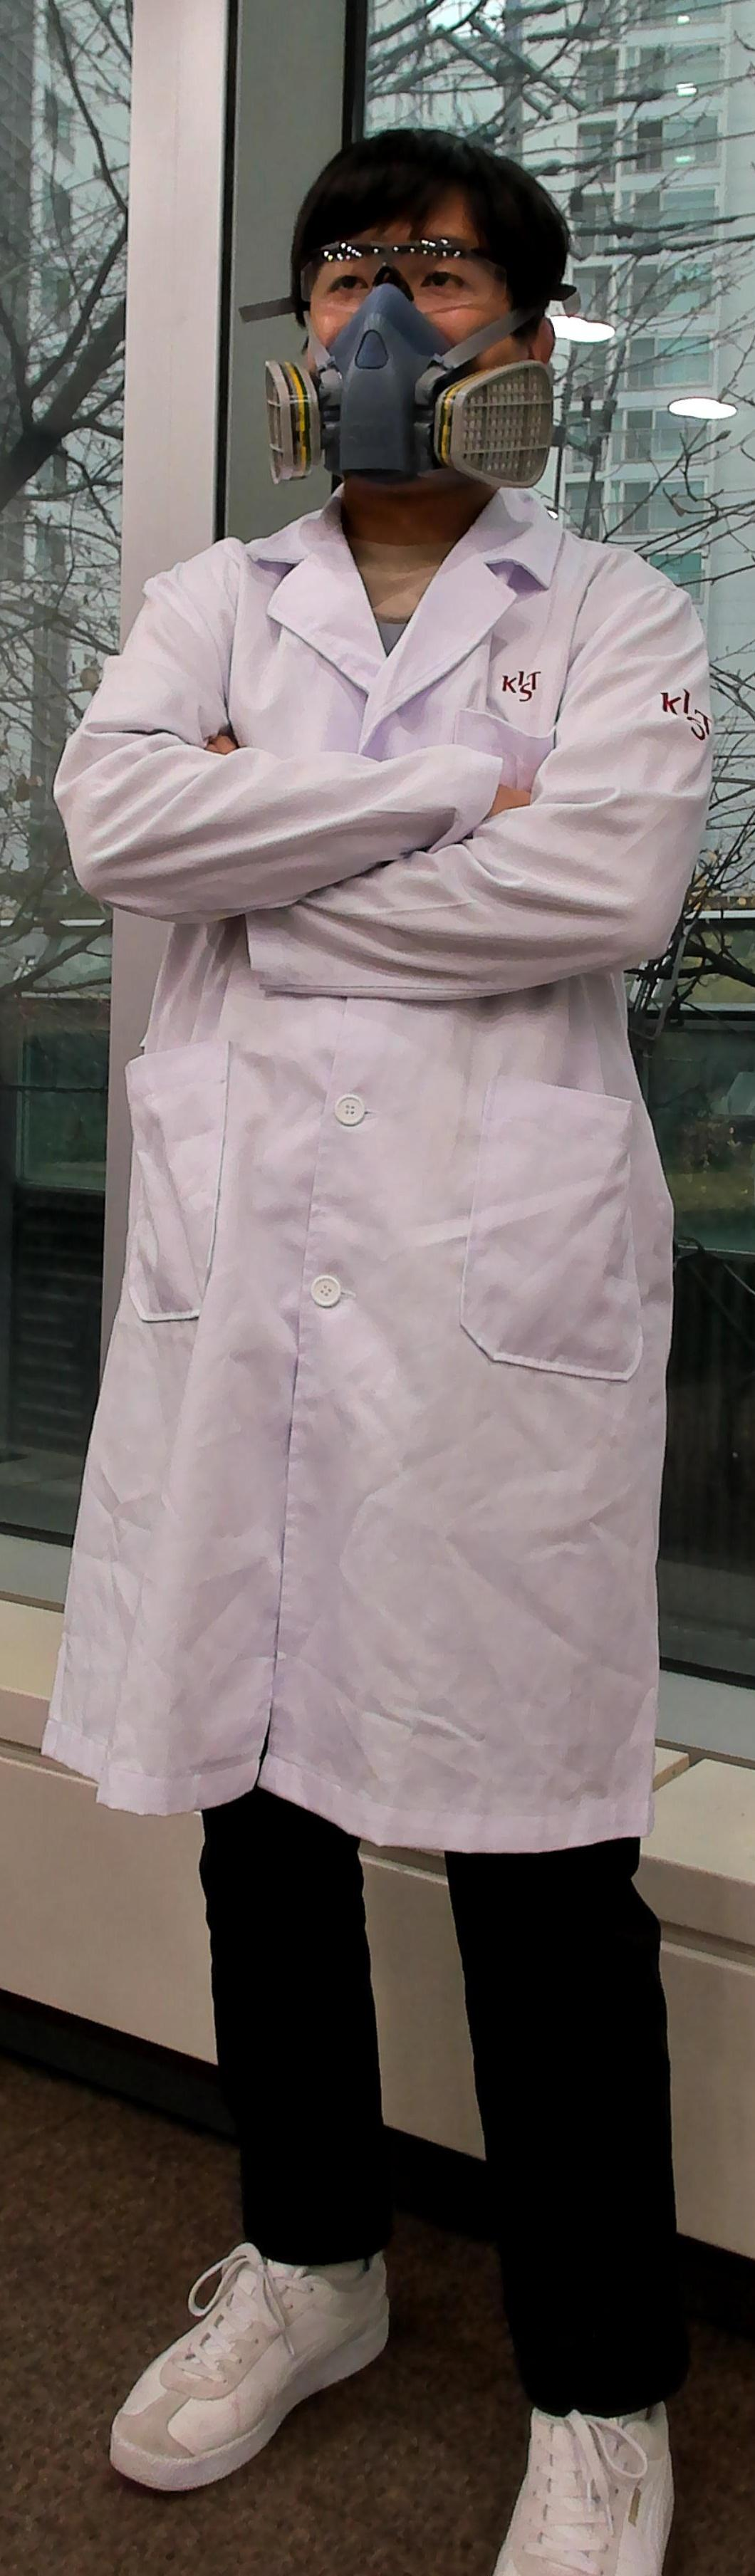lab_coat: (0, 547, 721, 1814)
